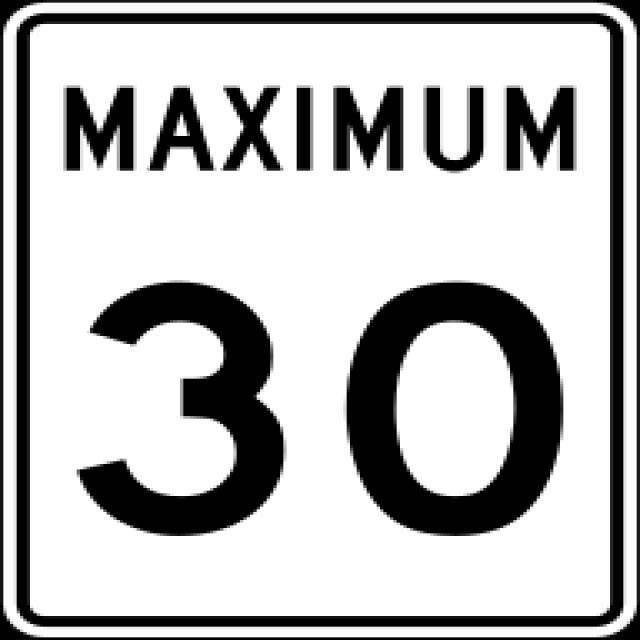Speed Limit -30-: (55, 262, 592, 554)
